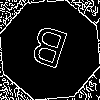B: (25, 25, 70, 78)
